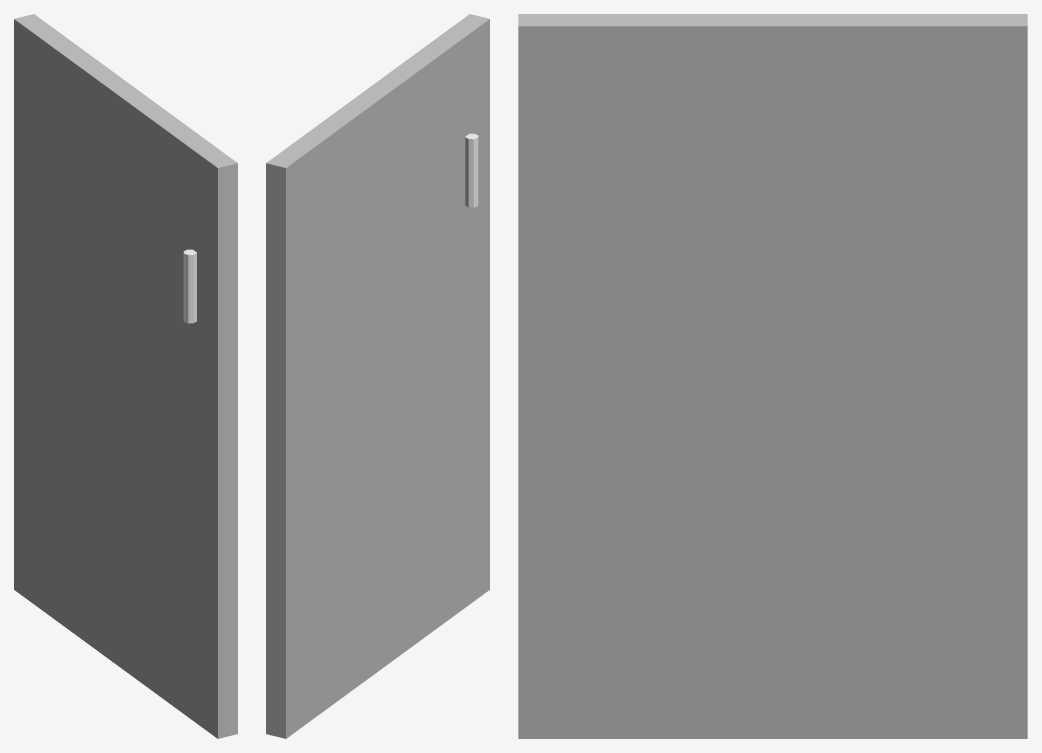
Rendered from Cabinet_cc651d88.obj.
3 views of the same model, side by side, from view 1: azimuth 30°, elevation 25°; view 2: azimuth 150°, elevation 25°; view 3: azimuth 270°, elevation 25° (orthographic). The views are drawn at different scales.
Parts seen in each view (by area): view 1: FP405:Door_77a97090; view 2: FP405:Door_77a97090; view 3: FP405:Door_77a97090.
Boxes of the visible parts, x1=… form: FP405:Door_77a97090: x1=14, y1=14, x2=237, y2=738; FP405:Door_77a97090: x1=266, y1=14, x2=489, y2=738; FP405:Door_77a97090: x1=518, y1=14, x2=1027, y2=738.
Size of the model in its own units: 0.0378 by 0.6677 by 0.4321.
